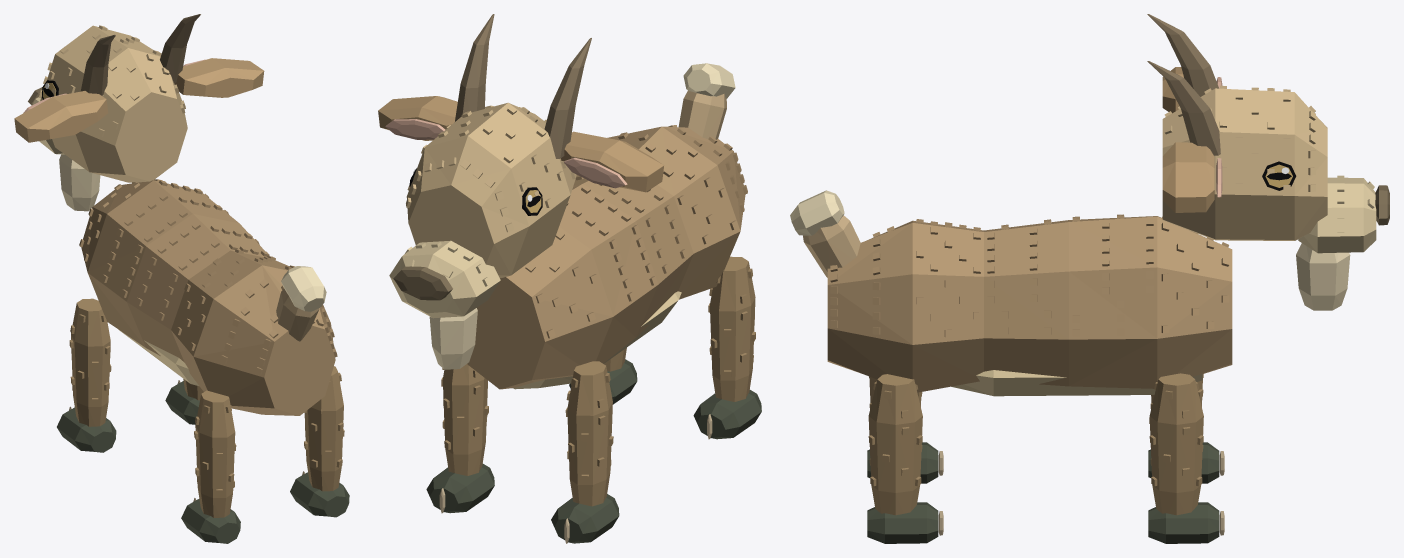
The model's file is Goat.fbx.
3 views of the same model, side by side, from view 1: azimuth 30°, elevation 25°; view 2: azimuth 150°, elevation 25°; view 3: azimuth 270°, elevation 25° (orthographic). The views are drawn at different scales.
Parts seen in each view (by area): view 1: Import3D_Core, Import3D_Head, Import3D_LegBL, Import3D_LegFL, Import3D_LegBR, Import3D_EarL, Import3D_EarR, Import3D_Tail, Import3D_Beard, Import3D_HornBaseL, Import3D_HornBaseR, Import3D_LegFR; view 2: Import3D_Core, Import3D_Head, Import3D_LegFL, Import3D_LegBL, Import3D_LegFR, Import3D_LongFace, Import3D_EarL, Import3D_Tail, Import3D_EarR, Import3D_HornBaseL, Import3D_Beard, Import3D_HornBaseR (+3 smaller); view 3: Import3D_Core, Import3D_Head, Import3D_LegFR, Import3D_LegBR, Import3D_LongFace, Import3D_Tail, Import3D_EarR, Import3D_Beard, Import3D_HornBaseR, Import3D_HornBaseL, Import3D_LegBL, Import3D_LegFL (+1 smaller).
Part boxes in pixels (x1,y1,x2,y2): Import3D_Core: [79, 179, 337, 415]; Import3D_Head: [38, 25, 187, 182]; Import3D_LegBL: [181, 390, 240, 543]; Import3D_LegFL: [57, 298, 116, 452]; Import3D_LegBR: [290, 366, 349, 517]; Import3D_EarL: [14, 91, 108, 142]; Import3D_EarR: [174, 58, 264, 97]; Import3D_Tail: [276, 266, 326, 341]; Import3D_Beard: [59, 154, 100, 211]; Import3D_HornBaseL: [80, 34, 115, 95]; Import3D_HornBaseR: [160, 14, 200, 82]; Import3D_LegFR: [165, 379, 203, 424]; Import3D_Core: [467, 125, 747, 389]; Import3D_Head: [406, 102, 576, 278]; Import3D_LegFL: [551, 361, 619, 543]; Import3D_LegBL: [693, 256, 761, 439]; Import3D_LegFR: [426, 364, 494, 513]; Import3D_LongFace: [389, 240, 500, 318]; Import3D_EarL: [561, 131, 664, 192]; Import3D_Tail: [678, 63, 735, 139]; Import3D_EarR: [378, 96, 457, 140]; Import3D_HornBaseL: [544, 38, 591, 158]; Import3D_Beard: [429, 308, 477, 369]; Import3D_HornBaseR: [455, 14, 494, 121]; Import3D_Core: [827, 214, 1232, 396]; Import3D_Head: [1162, 85, 1327, 240]; Import3D_LegFR: [1148, 373, 1224, 543]; Import3D_LegBR: [867, 374, 943, 543]; Import3D_LongFace: [1298, 175, 1376, 253]; Import3D_Tail: [790, 190, 860, 277]; Import3D_EarR: [1162, 142, 1222, 212]; Import3D_Beard: [1296, 243, 1350, 310]; Import3D_HornBaseR: [1147, 61, 1220, 155]; Import3D_HornBaseL: [1147, 14, 1218, 96]; Import3D_LegBL: [867, 376, 943, 483]; Import3D_LegFL: [1148, 374, 1224, 483].
Bounding box in the file's own units: 131 × 221 × 254.
1 material, 1 textured.
